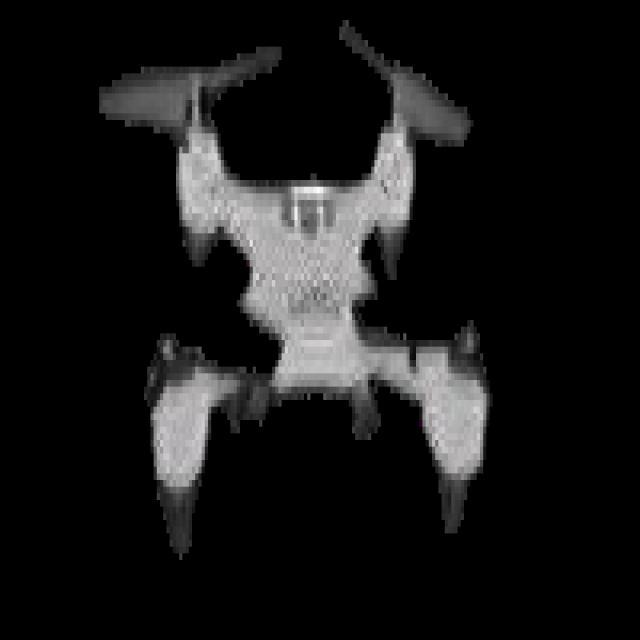drone: (100, 12, 494, 562)
